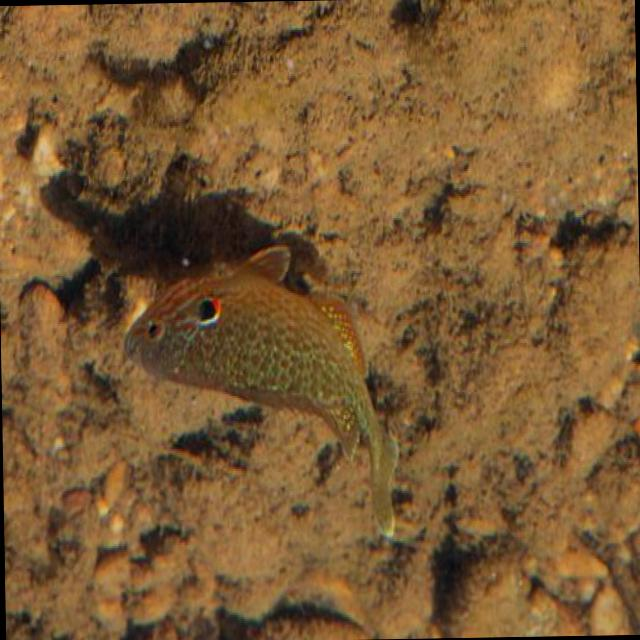Gunes Levregi: (121, 226, 404, 547)
